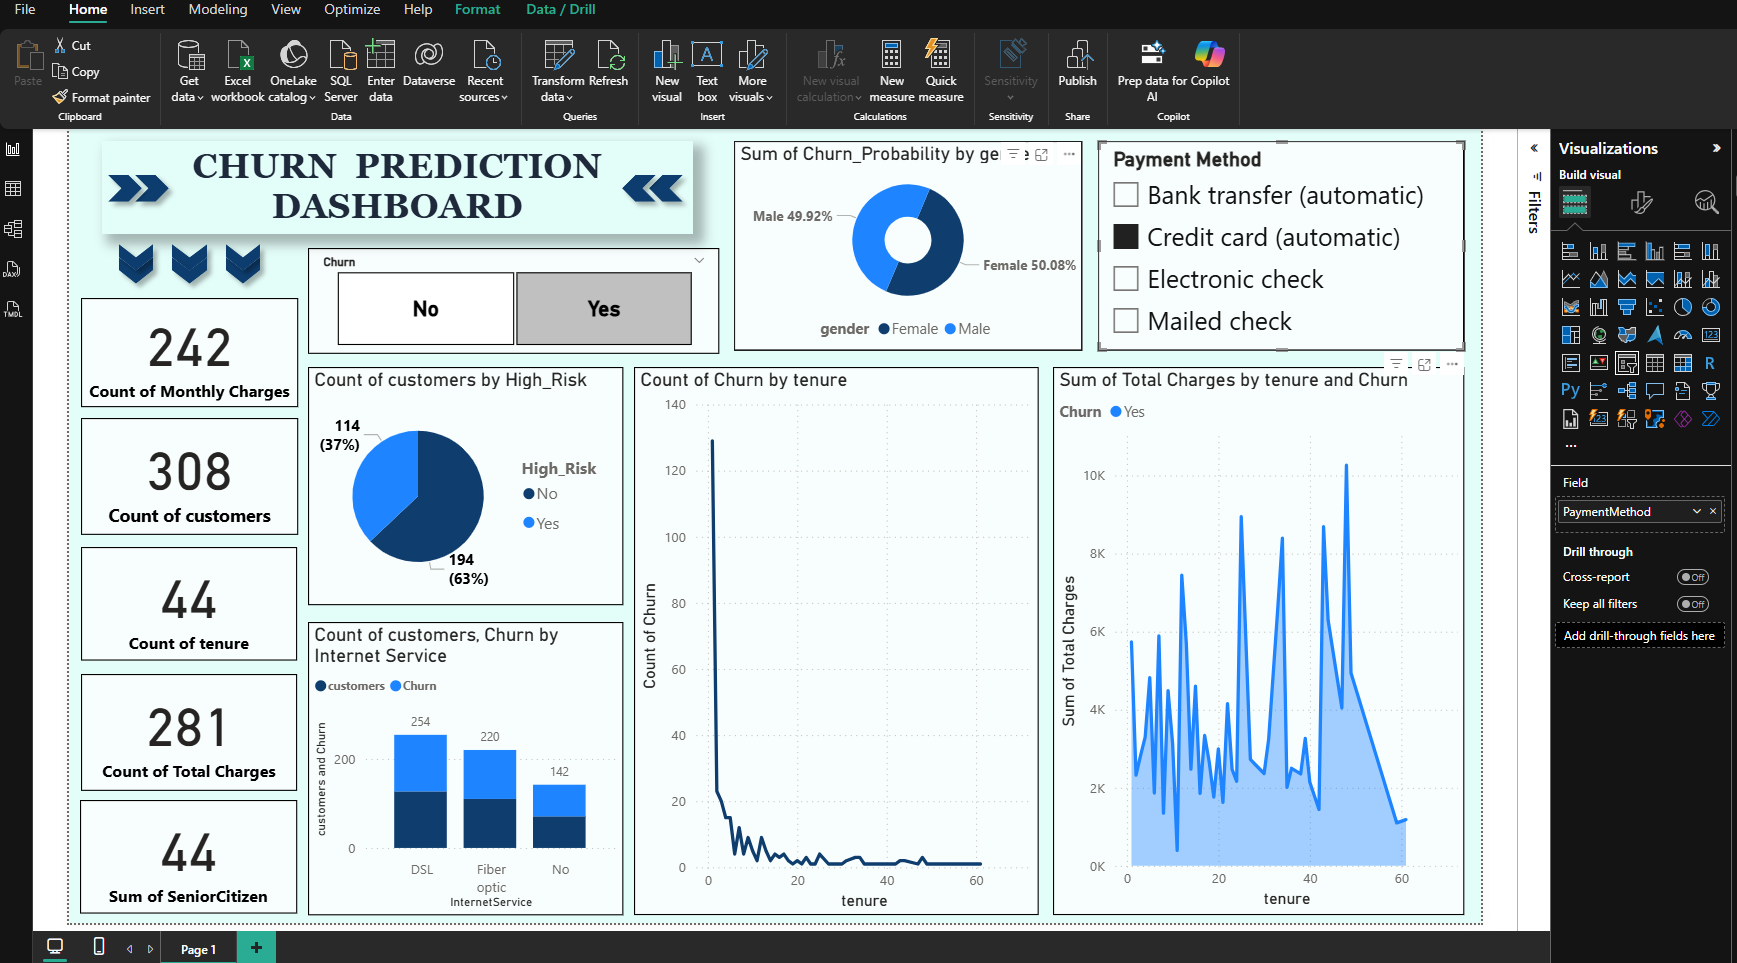

What the dashboard file says about the page in this screenshot:
{"tool":"powerbi","page":{"name":"Page 1","canvas":[1280,720],"ordinal":0},"visuals":[{"type":"stackedAreaChart","fields":{"Y":["Sum(churn_predictions.TotalCharges)"],"Category":["churn_predictions.tenure"],"Series":["churn_predictions.Churn"]},"box":[892.2,215.6,373.3,496.7],"z":0},{"type":"lineStackedColumnComboChart","title":"Count of customers, Churn by Internet Service","fields":{"Category":["churn_predictions.InternetService"],"Y":["CountNonNull(churn_predictions.customers)","CountNonNull(churn_predictions.Churn)"]},"box":[216.7,446.7,285.6,265.6],"z":1000},{"type":"card","fields":{"Values":["Count(churn_predictions.TotalCharges)"]},"box":[11.1,494.4,195.6,105.6],"z":2000},{"type":"lineChart","fields":{"Category":["churn_predictions.tenure"],"Y":["CountNonNull(churn_predictions.Churn)"]},"box":[512.2,215.6,366.7,496.7],"z":3000},{"type":"slicer","fields":{"Values":["churn_predictions.PaymentMethod"]},"box":[933.3,11.1,332.2,190],"z":4000},{"type":"donutChart","fields":{"Y":["Sum(churn_predictions.Churn_Probability)"],"Category":["churn_predictions.gender"]},"box":[603.3,11.1,315.6,190],"z":5000},{"type":"card","fields":{"Values":["Count(churn_predictions.tenure)"]},"box":[11.1,378.9,195.6,103.3],"z":6000},{"type":"slicer","fields":{"Values":["churn_predictions.Churn"]},"box":[216.7,107.8,373.3,95.6],"z":7000},{"type":"card","fields":{"Values":["Sum(churn_predictions.SeniorCitizen)"]},"box":[10,608.9,196.7,103.3],"z":8000},{"type":"pieChart","fields":{"Y":["CountNonNull(churn_predictions.customers)"],"Category":["churn_predictions.High_Risk"]},"box":[216.7,215.6,285.6,215.6],"z":9000},{"type":"card","fields":{"Values":["Count(churn_predictions.MonthlyCharges)"]},"box":[11.1,153.3,196.7,98.9],"z":10000},{"type":"card","fields":{"Values":["Count(churn_predictions.customers)"]},"box":[11.1,262.2,196.7,105.6],"z":11000},{"type":"textbox","box":[30,11.1,535.6,84.4],"z":12000},{"type":"shape","box":[84.4,95.6,50,42.2],"z":13000},{"type":"shape","box":[516.7,32.2,48.9,42.2],"z":14000},{"type":"shape","box":[492.2,32.2,48.9,42.2],"z":15000},{"type":"shape","box":[84.4,106.7,50,42.2],"z":16000},{"type":"shape","box":[51.1,32.2,48.9,42.2],"z":17000},{"type":"shape","box":[26.7,32.2,48.9,42.2],"z":18000},{"type":"shape","box":[133.3,106.7,48.9,42.2],"z":18001},{"type":"shape","box":[133.3,95.6,48.9,42.2],"z":18002},{"type":"shape","box":[36.7,106.7,48.9,42.2],"z":18003},{"type":"shape","box":[36.7,95.6,48.9,42.2],"z":18004}]}

Visuals, with their boxes on the page's 1280x720 design canvas (x1, y1, x2, y2). These are canvas units, not pixel positions in the 1737x963 screenshot, which may show the page scaled, cropped or inside an application window:
stackedAreaChart - Sum(churn_predictions.TotalCharges) x churn_predictions.tenure: crop(892, 216, 1266, 712)
"Count of customers, Churn by Internet Service" lineStackedColumnComboChart: crop(217, 447, 502, 712)
card - Count(churn_predictions.TotalCharges): crop(11, 494, 207, 600)
lineChart - churn_predictions.tenure x CountNonNull(churn_predictions.Churn): crop(512, 216, 879, 712)
slicer - churn_predictions.PaymentMethod: crop(933, 11, 1266, 201)
donutChart - Sum(churn_predictions.Churn_Probability) x churn_predictions.gender: crop(603, 11, 919, 201)
card - Count(churn_predictions.tenure): crop(11, 379, 207, 482)
slicer - churn_predictions.Churn: crop(217, 108, 590, 203)
card - Sum(churn_predictions.SeniorCitizen): crop(10, 609, 207, 712)
pieChart - CountNonNull(churn_predictions.customers) x churn_predictions.High_Risk: crop(217, 216, 502, 431)
card - Count(churn_predictions.MonthlyCharges): crop(11, 153, 208, 252)
card - Count(churn_predictions.customers): crop(11, 262, 208, 368)
textbox: crop(30, 11, 566, 96)
shape: crop(84, 96, 134, 138)
shape: crop(517, 32, 566, 74)
shape: crop(492, 32, 541, 74)
shape: crop(84, 107, 134, 149)
shape: crop(51, 32, 100, 74)
shape: crop(27, 32, 76, 74)
shape: crop(133, 107, 182, 149)
shape: crop(133, 96, 182, 138)
shape: crop(37, 107, 86, 149)
shape: crop(37, 96, 86, 138)
